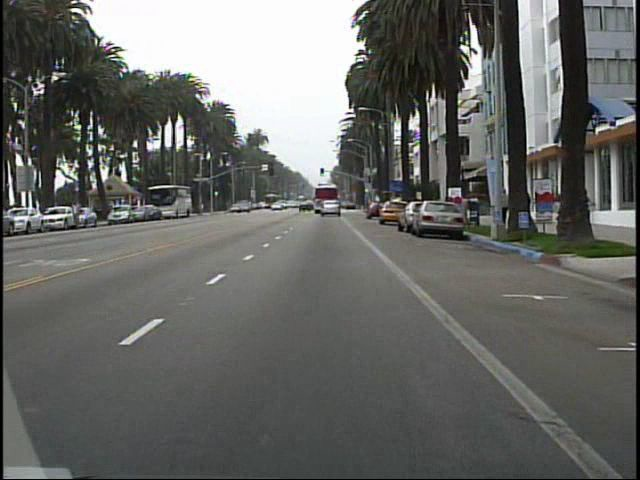person: (521, 181, 540, 231), (501, 187, 510, 227)
